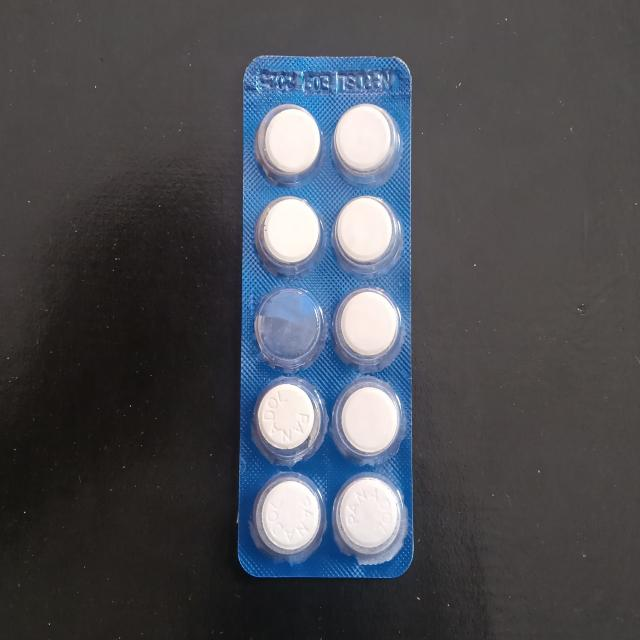defect: (252, 285, 326, 373)
